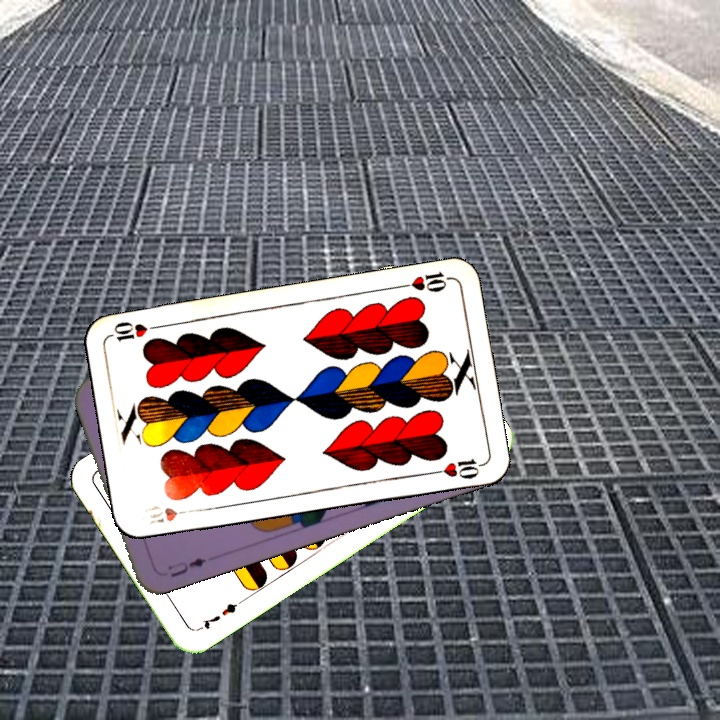E7: (193, 595, 246, 634)
EU: (163, 553, 209, 580)
H10: (395, 267, 454, 295), (140, 501, 197, 527)
